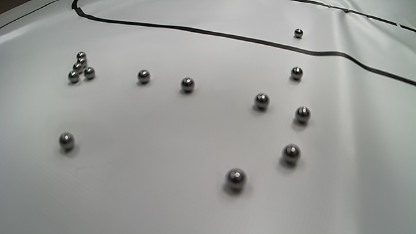ironball: (225, 168, 247, 191), (282, 144, 300, 164), (59, 132, 74, 151), (295, 106, 310, 123), (254, 93, 269, 109), (181, 77, 195, 92), (137, 69, 150, 83), (290, 66, 303, 80), (84, 66, 95, 79), (68, 70, 79, 83), (72, 62, 82, 75), (77, 57, 87, 68), (294, 28, 303, 38), (76, 51, 86, 59)
